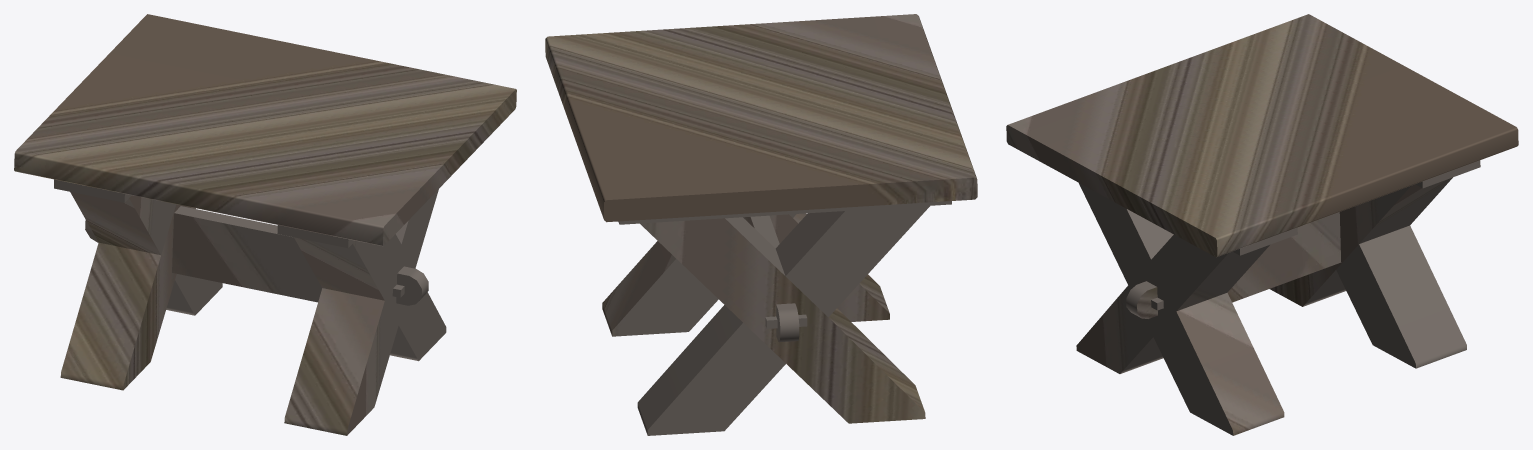
File: Bench_02.glb
3 renders of one model, left to right at view 1: azimuth 30°, elevation 25°; view 2: azimuth 150°, elevation 25°; view 3: azimuth 270°, elevation 25°, orthographic. The views are drawn at different scales.
Parts seen in each view (by area): view 1: SM_Bench_02; view 2: SM_Bench_02; view 3: SM_Bench_02.
Boxes of the visible parts, x1,y1,x2,y2 form: SM_Bench_02: [14, 14, 516, 435]; SM_Bench_02: [545, 14, 977, 435]; SM_Bench_02: [1006, 14, 1518, 435].
Bounding box in the file's own units: 0.9679 × 0.5041 × 0.9812.
1 material, 1 textured.
